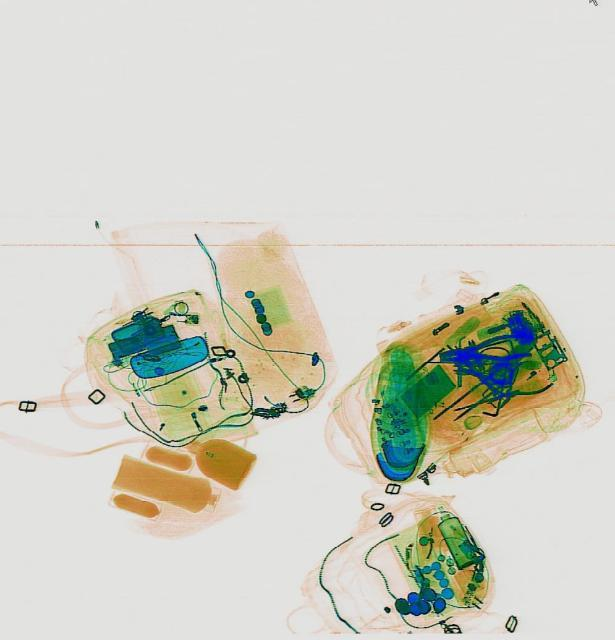Pliers: (478, 351, 555, 421), (437, 329, 529, 368)
